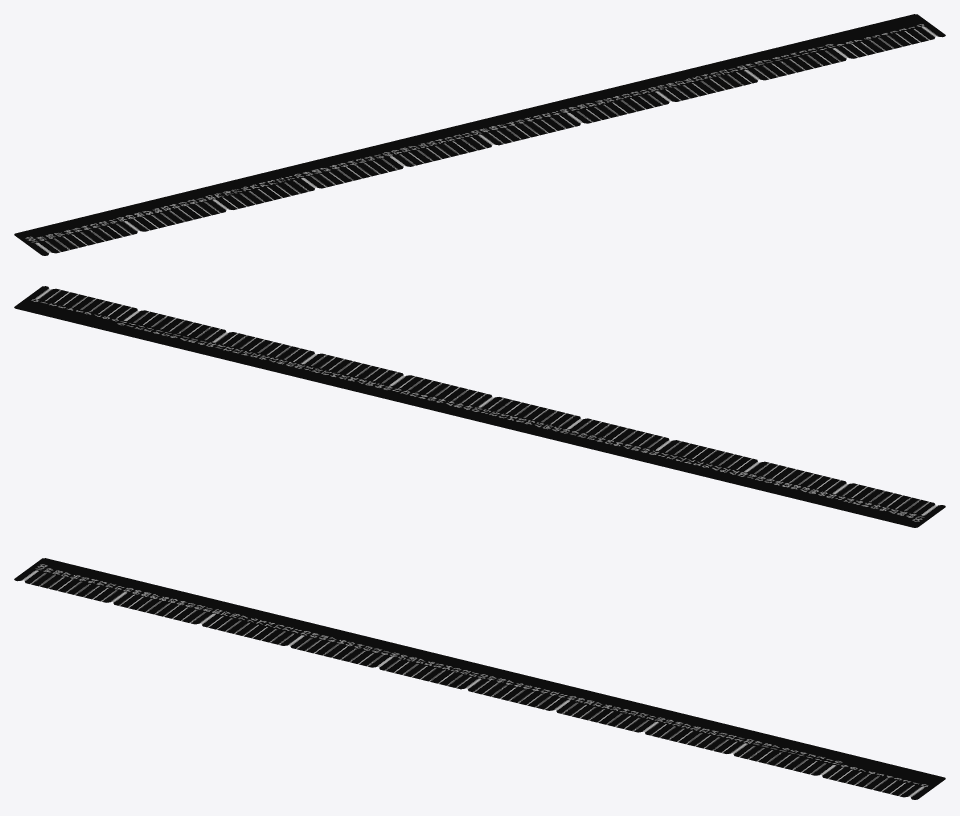
Rendered from IMT_Ruler.fbx.
The picture shows the model from 3 angles, top to bottom: view 1: azimuth 30°, elevation 25°; view 2: azimuth 150°, elevation 25°; view 3: azimuth 330°, elevation 25°; orthographic projection.
Visible parts, largest first — view 1: Ruler_lp; view 2: Ruler_lp; view 3: Ruler_lp.
Boxes of the visible parts, box(x1,y1,x2,y2) form: Ruler_lp: box(14, 14, 945, 255); Ruler_lp: box(14, 286, 945, 527); Ruler_lp: box(14, 558, 945, 799).
Size of the model in its own units: 102 by 0.2 by 6.
Materials: 1 (1 with a texture image).
